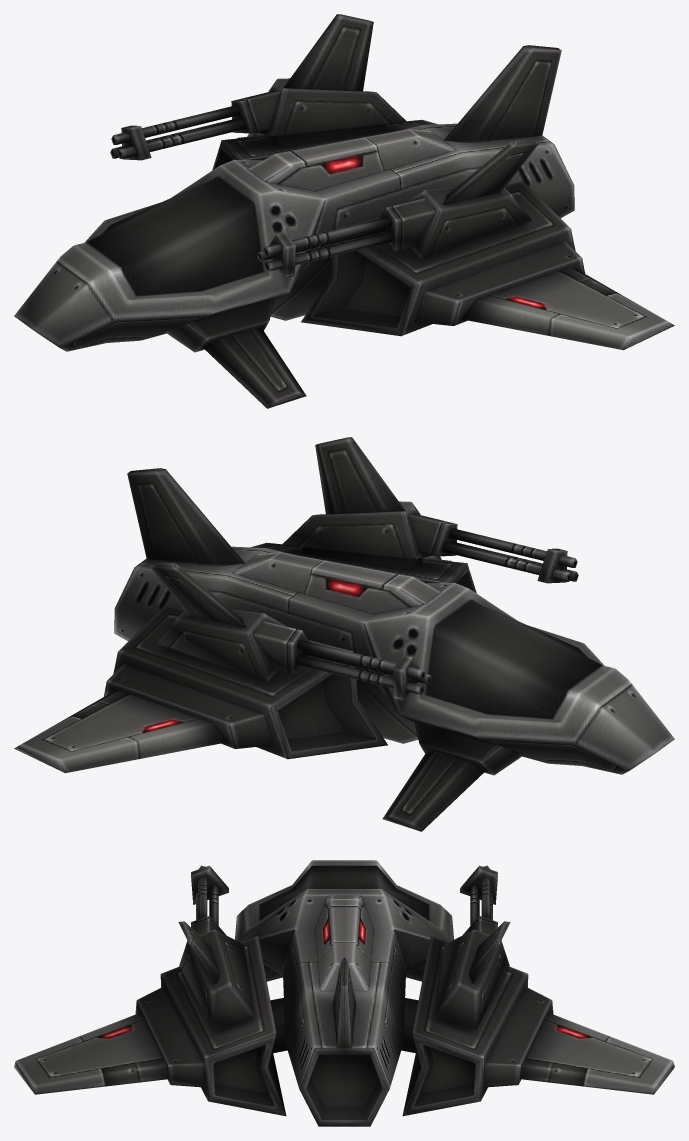
The picture shows the model from 3 angles, top to bottom: view 1: azimuth 30°, elevation 25°; view 2: azimuth 150°, elevation 25°; view 3: azimuth 270°, elevation 25°; orthographic projection. The views are drawn at different scales.
Visible parts, largest first — view 1: small_space_ship_3_003; view 2: small_space_ship_3_003; view 3: small_space_ship_3_003.
Part boxes in pixels (<box>): small_space_ship_3_003: <box>14,14,674,408</box>; small_space_ship_3_003: <box>14,437,674,831</box>; small_space_ship_3_003: <box>14,860,674,1126</box>.
Size of the model in its own units: 48.03 by 18.95 by 55.01.
Materials: 1 (1 with a texture image).
